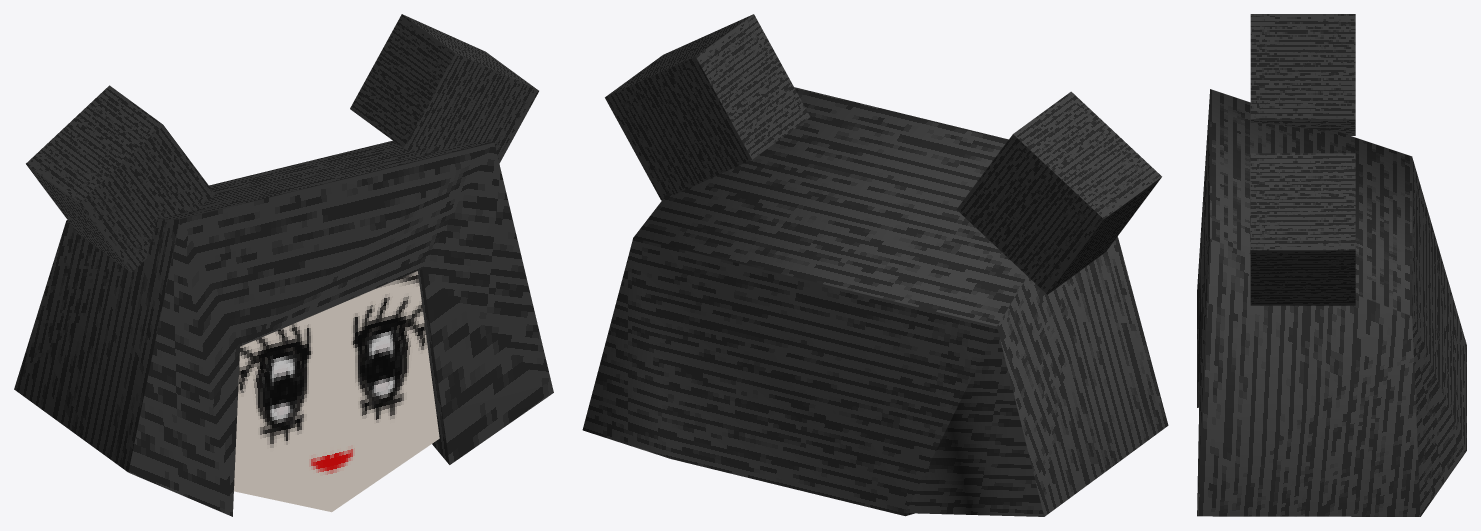
File: C_GH_Head_F5.FBX
3 views of the same model, side by side, from view 1: azimuth 30°, elevation 25°; view 2: azimuth 150°, elevation 25°; view 3: azimuth 270°, elevation 25° (orthographic). The views are drawn at different scales.
Parts seen in each view (by area): view 1: Hair, Face; view 2: Hair; view 3: Hair.
Part boxes in pixels (x1,y1,x2,y2): Hair: (14, 14, 553, 516); Face: (234, 271, 439, 512); Hair: (582, 14, 1168, 516); Hair: (1197, 14, 1466, 516).
Bounding box in the file's own units: 35.84 × 30.48 × 18.62.
Materials: 2 (2 with a texture image).
